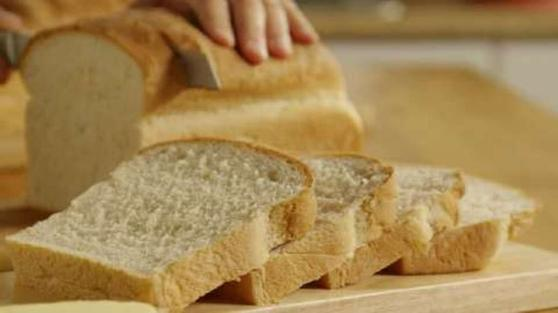white_bread: (33, 6, 372, 174)
